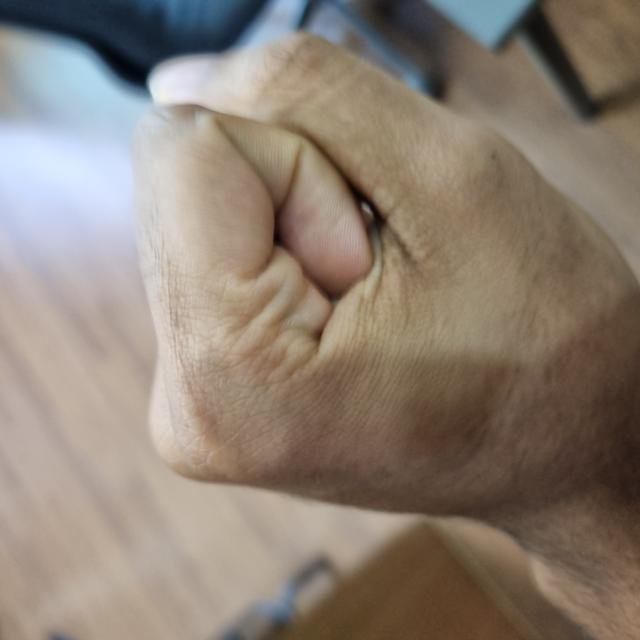Rock: (114, 144, 586, 639)
